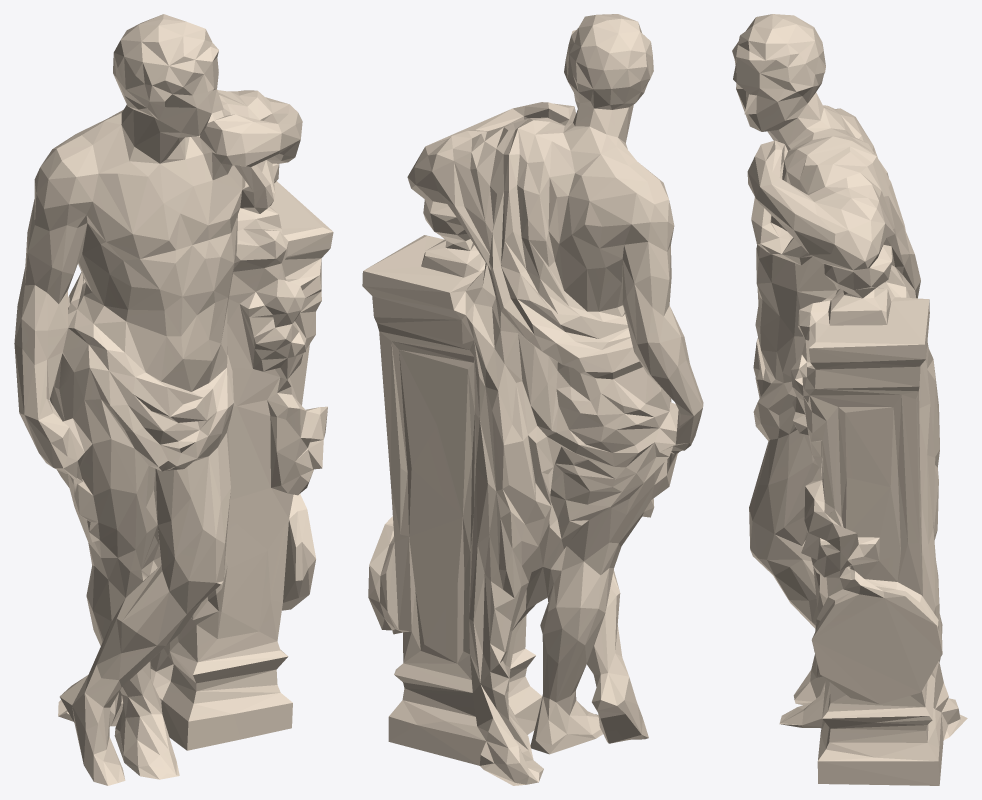
File: Hercules.fbx
3 renders of one model, left to right at view 1: azimuth 30°, elevation 25°; view 2: azimuth 150°, elevation 25°; view 3: azimuth 270°, elevation 25°, orthographic. The views are drawn at different scales.
Visible parts, largest first — view 1: Hercules; view 2: Hercules; view 3: Hercules.
Part boxes in pixels (x1,y1,x2,y2): Hercules: [14, 14, 333, 785]; Hercules: [362, 14, 703, 785]; Hercules: [732, 14, 967, 785].
Bounding box in the file's own units: 274 × 633 × 193.
